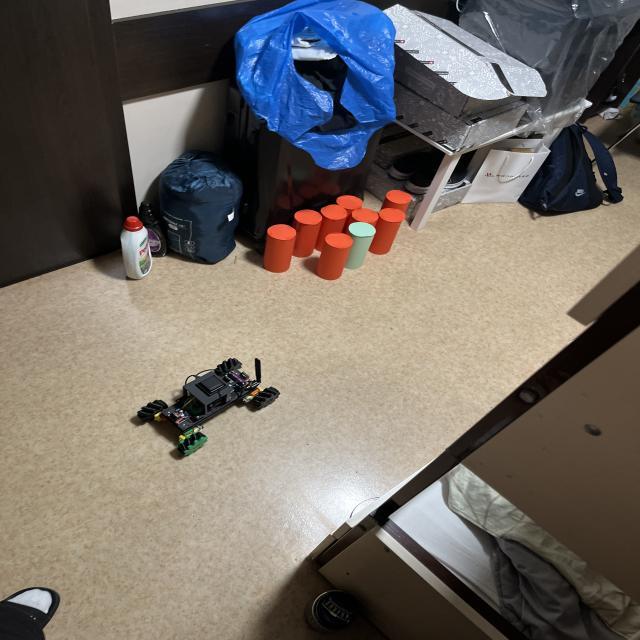robot: (138, 358, 280, 455)
